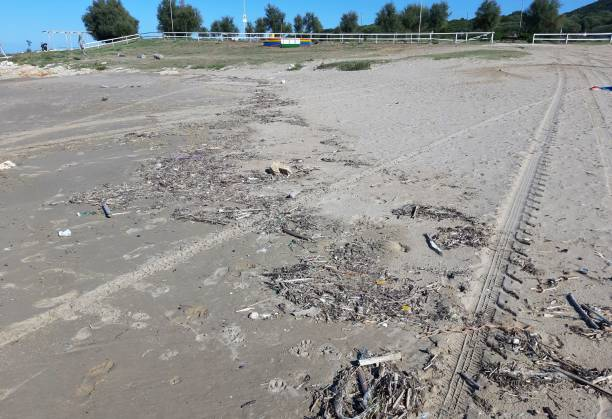vehicle_track: (473, 68, 564, 322)
